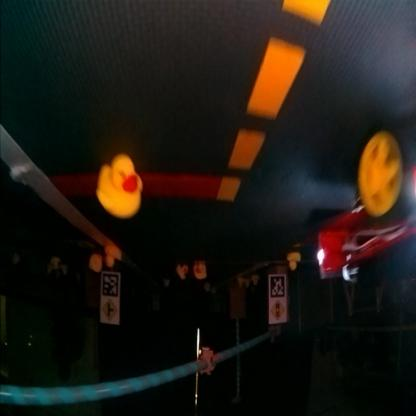Duckie: (97, 156, 142, 218), (106, 245, 121, 267), (288, 254, 302, 270), (90, 255, 102, 273), (194, 264, 206, 280), (177, 267, 188, 280), (253, 277, 259, 285), (238, 278, 244, 286)
Duckiebot: (318, 128, 416, 283)
Intersection sign: (102, 300, 119, 324)
QR code: (102, 275, 120, 297), (270, 276, 286, 298)
Signal sign: (271, 302, 287, 323)
Traffic light: (200, 349, 216, 374)
